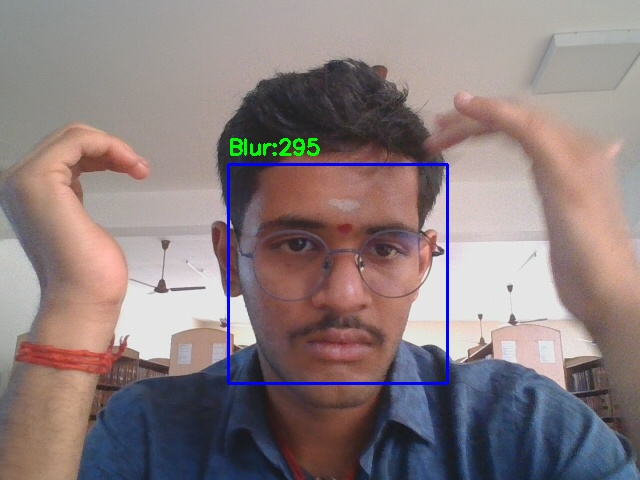real: (228, 164, 447, 383)
